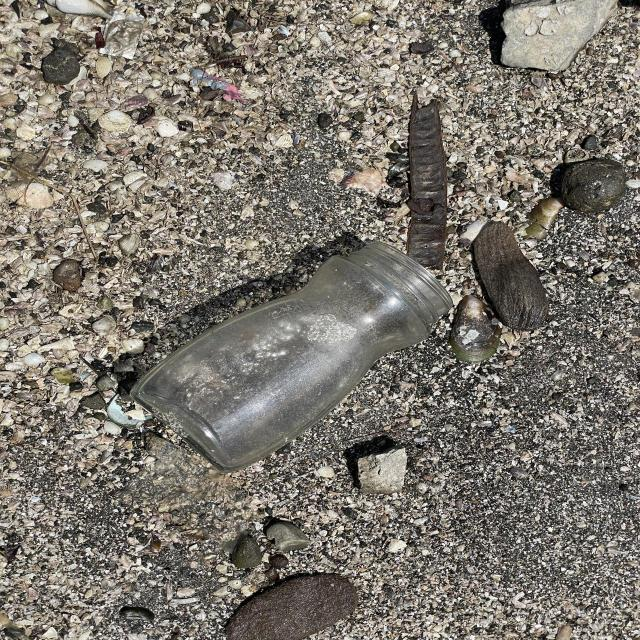plastic_waste: (133, 240, 454, 472)
